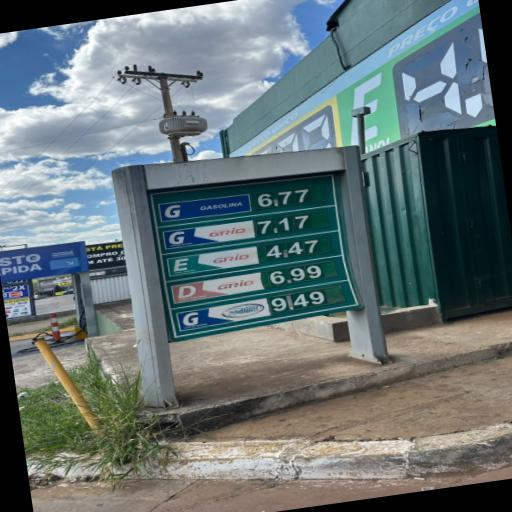ETANOL: (166, 246, 258, 276)
GASOLINA AD: (163, 220, 257, 250)
GASOLINA C: (161, 195, 251, 221)
S10: (173, 272, 262, 302), (260, 237, 322, 260), (254, 185, 312, 209), (257, 212, 315, 236), (268, 264, 326, 286)
placa: (150, 177, 355, 310)
